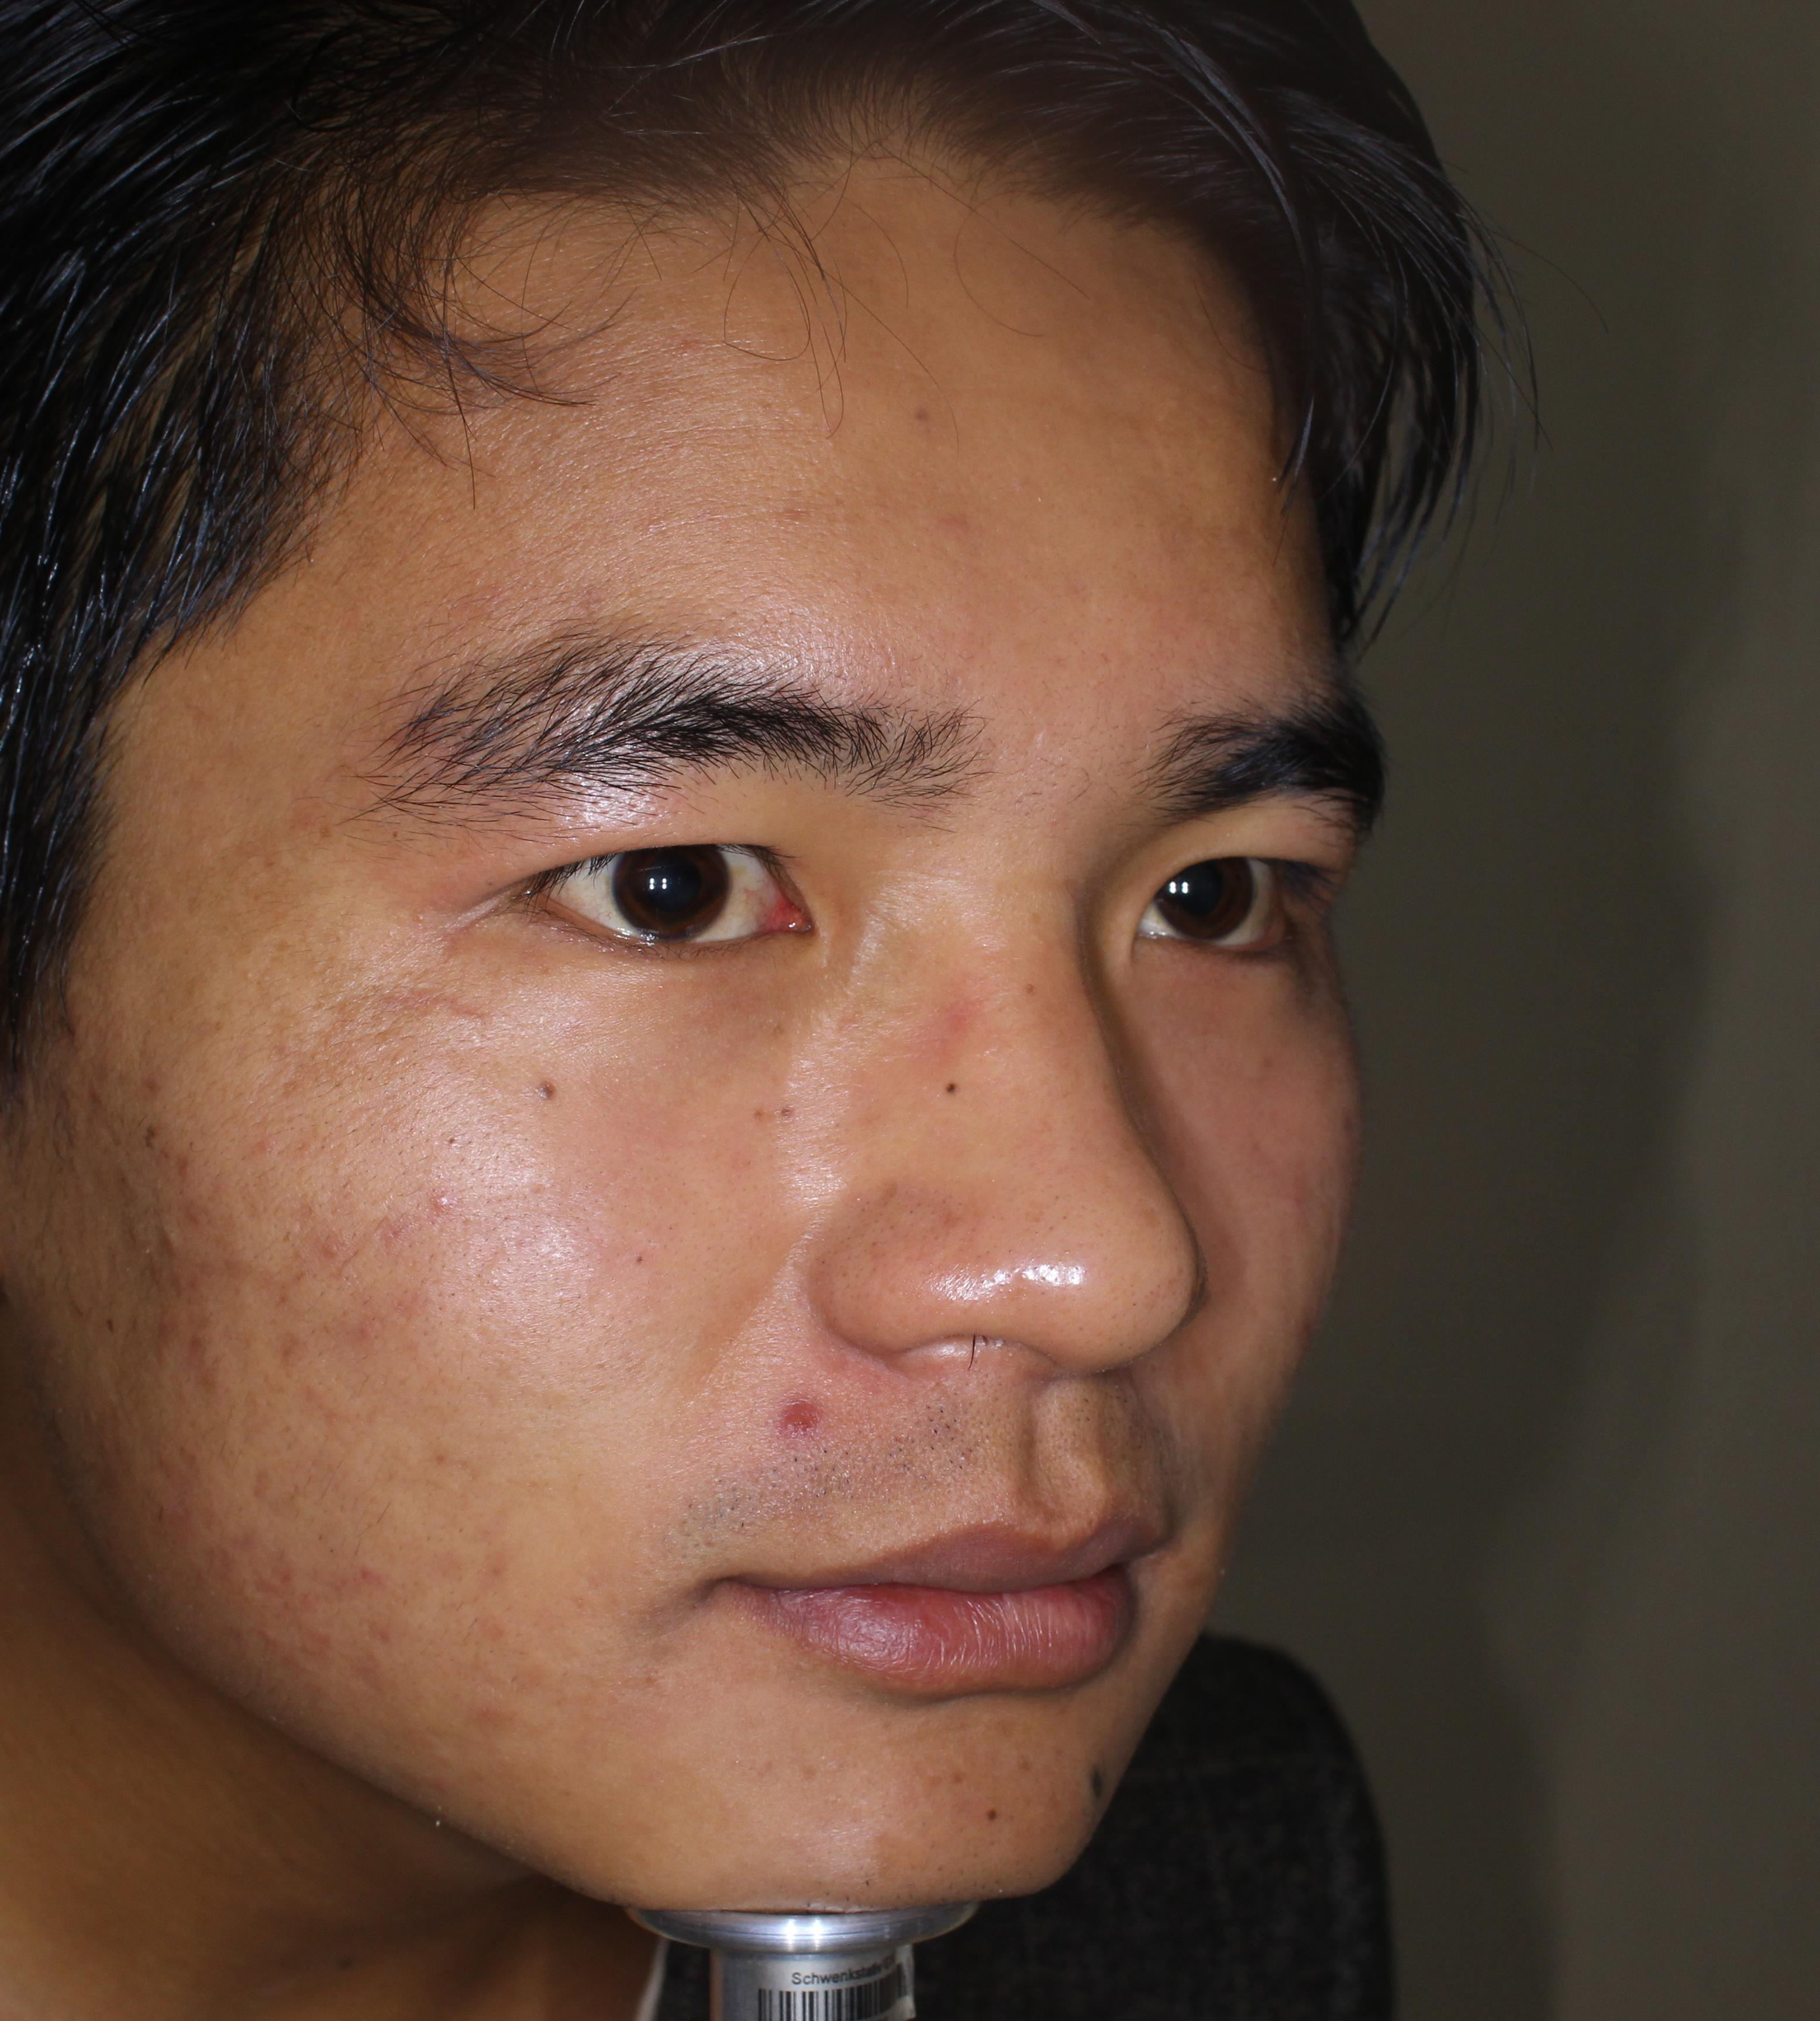fore: (265, 1176, 360, 1266), (163, 1306, 242, 1406), (123, 1436, 193, 1536), (314, 1549, 386, 1629), (126, 1096, 184, 1182), (754, 1384, 829, 1442)
